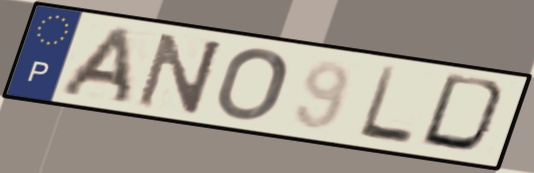9: (291, 57, 357, 132)
A: (54, 24, 134, 108)
D: (415, 71, 514, 158)
L: (354, 63, 417, 148)
N: (133, 30, 228, 116)
O: (212, 46, 291, 123)
